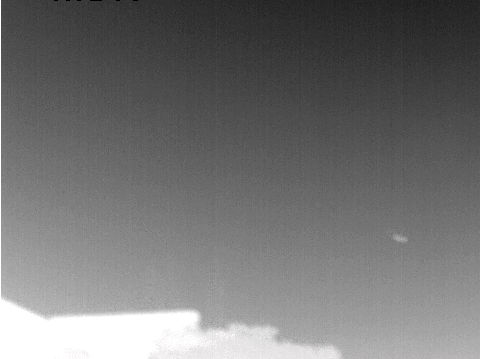dim target: (391, 233, 410, 244)
